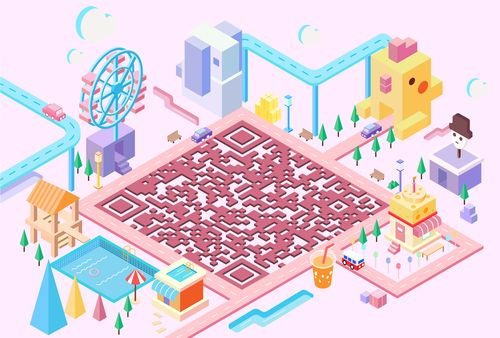QRCode: (92, 117, 397, 292)
